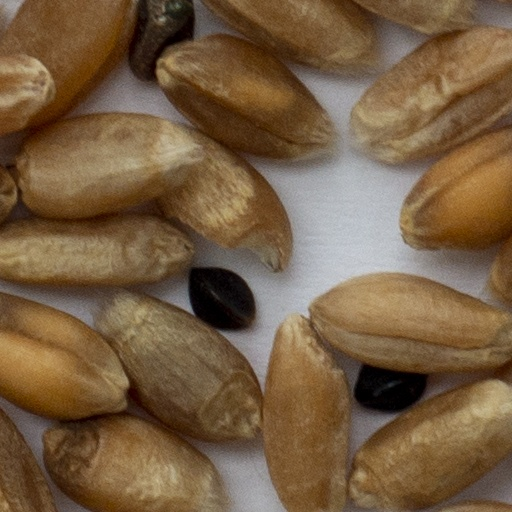Convolvulus-poly: (131, 0, 193, 78)
Fallopia-Convolvulus-poly: (190, 268, 254, 326), (355, 366, 425, 408)
